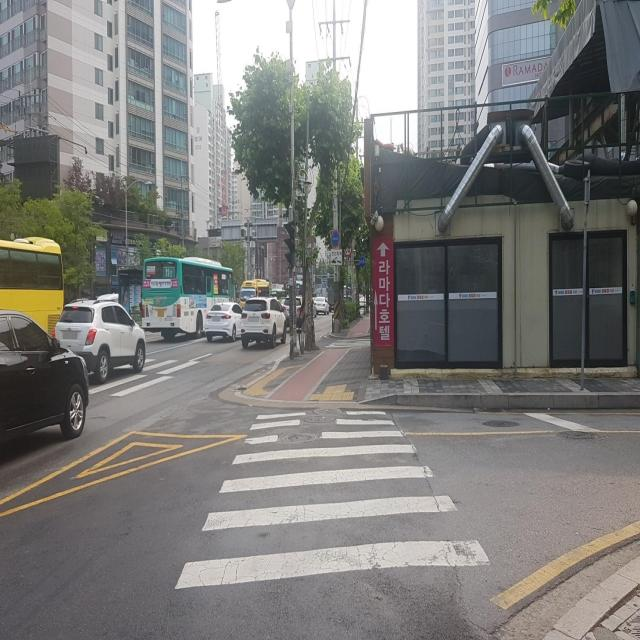횡단보도: (174, 408, 492, 591)
